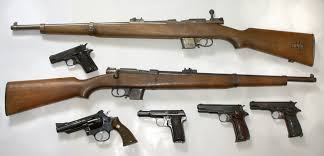gun: (9, 7, 315, 69), (2, 64, 319, 114), (53, 110, 137, 146), (194, 102, 251, 142), (247, 100, 304, 138), (133, 108, 187, 145), (48, 42, 99, 73)
